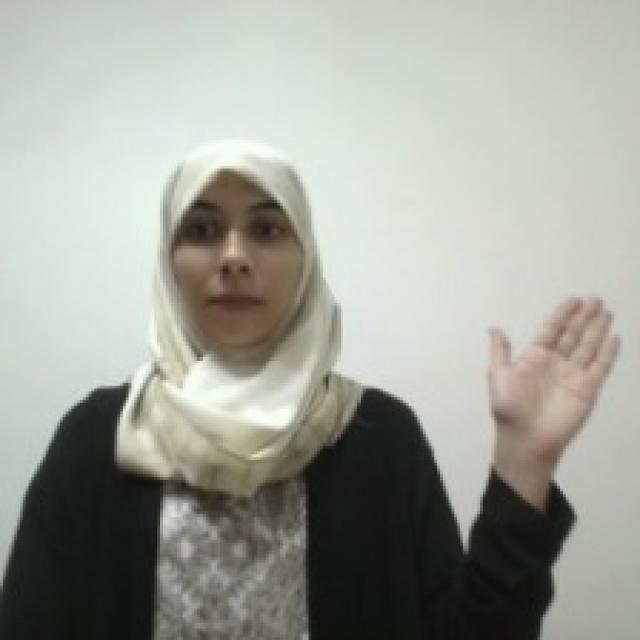Hello: (484, 289, 625, 449)
